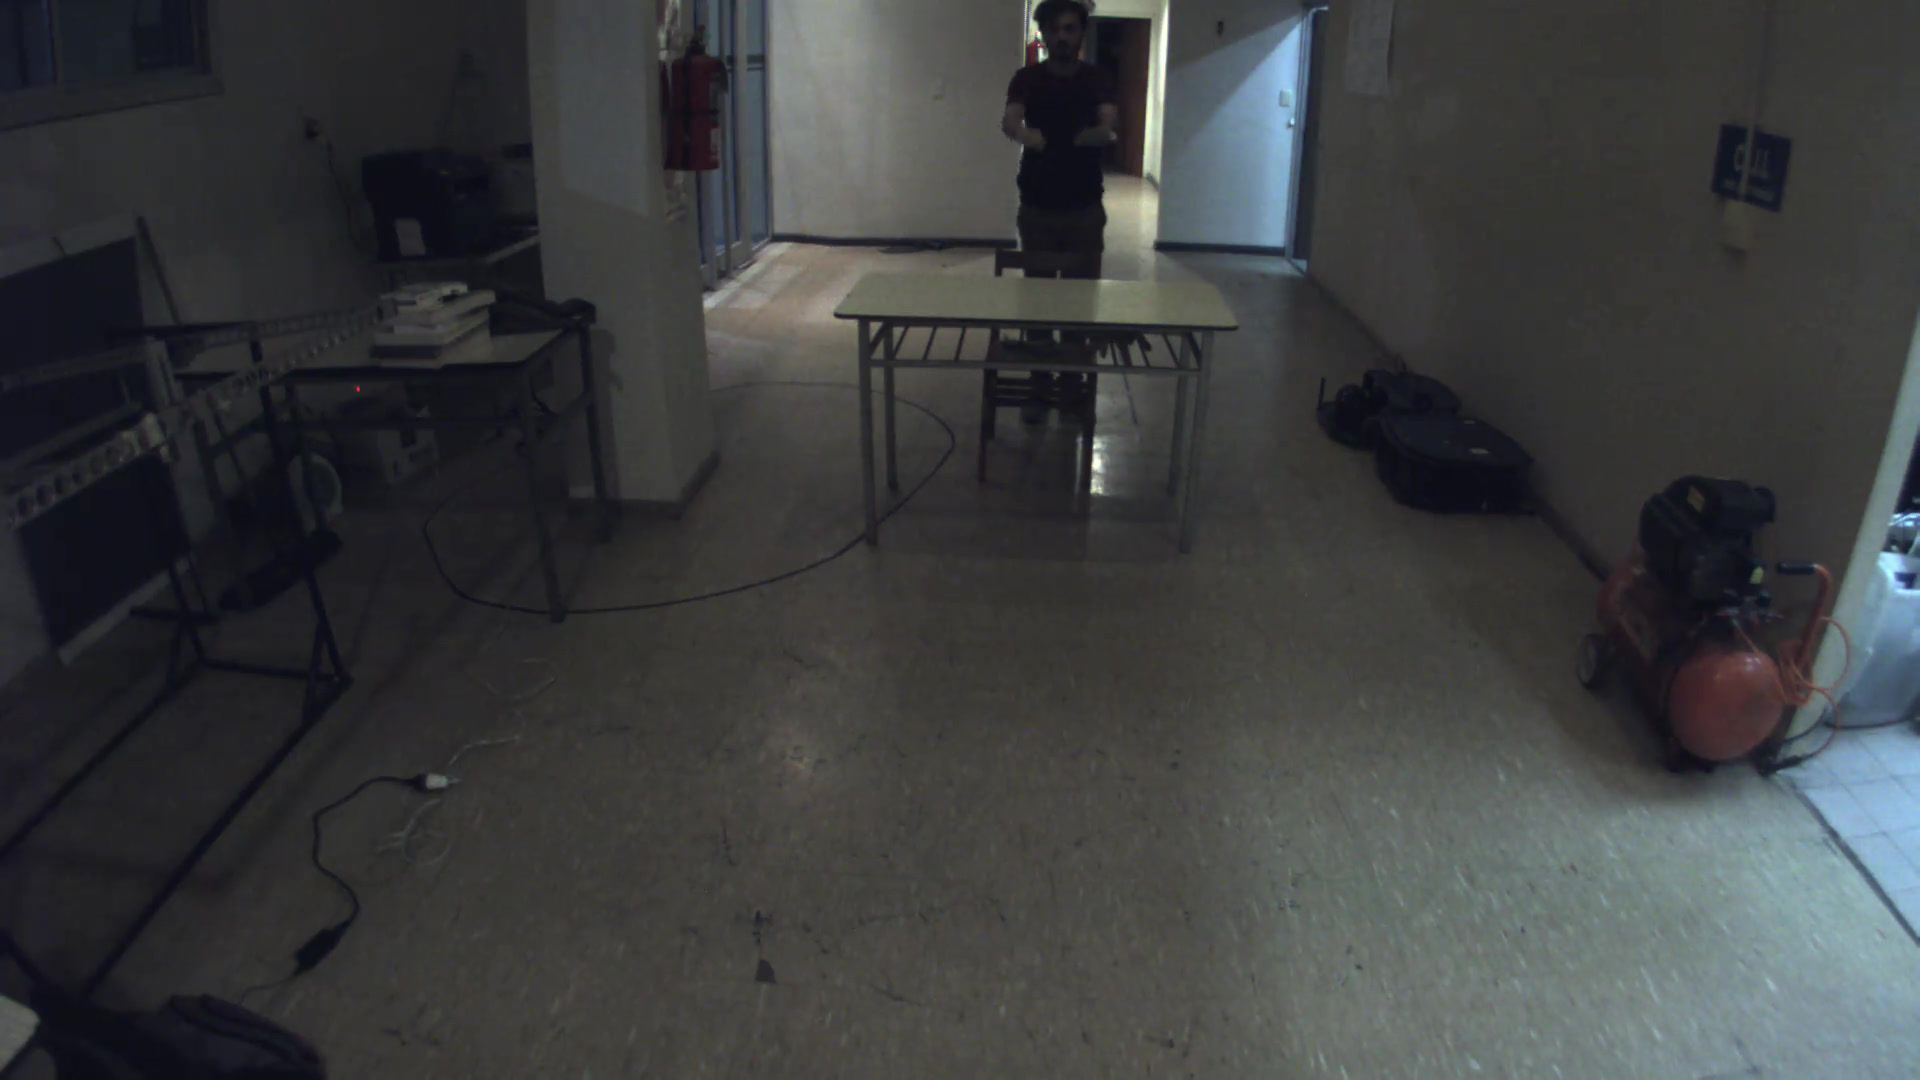hand: (1065, 125, 1138, 173), (1015, 117, 1055, 156)
